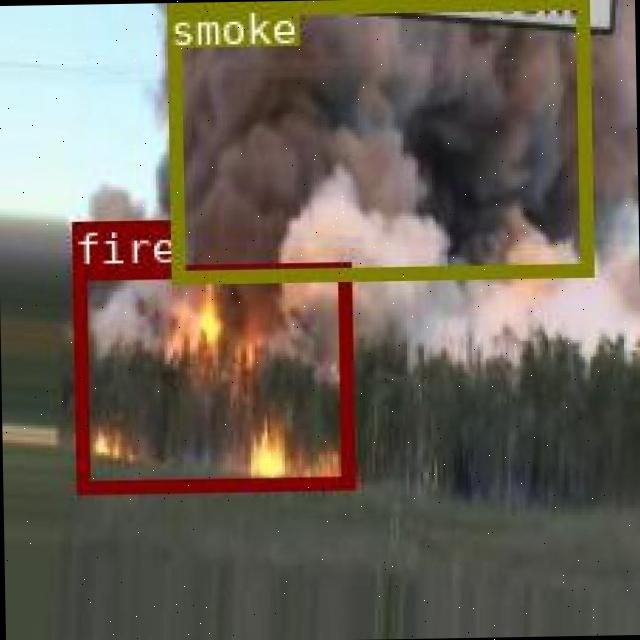fire: (70, 262, 351, 492)
smoke: (166, 0, 591, 281)
